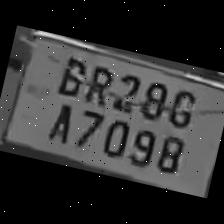0: (96, 111, 132, 160)
2: (106, 66, 144, 115)
6: (162, 81, 200, 132)
7: (66, 100, 106, 153)
8: (150, 128, 188, 178), (134, 74, 172, 122)
9: (124, 122, 160, 170)
A: (40, 94, 80, 146)
B: (52, 50, 90, 100)
R: (79, 58, 117, 108)
